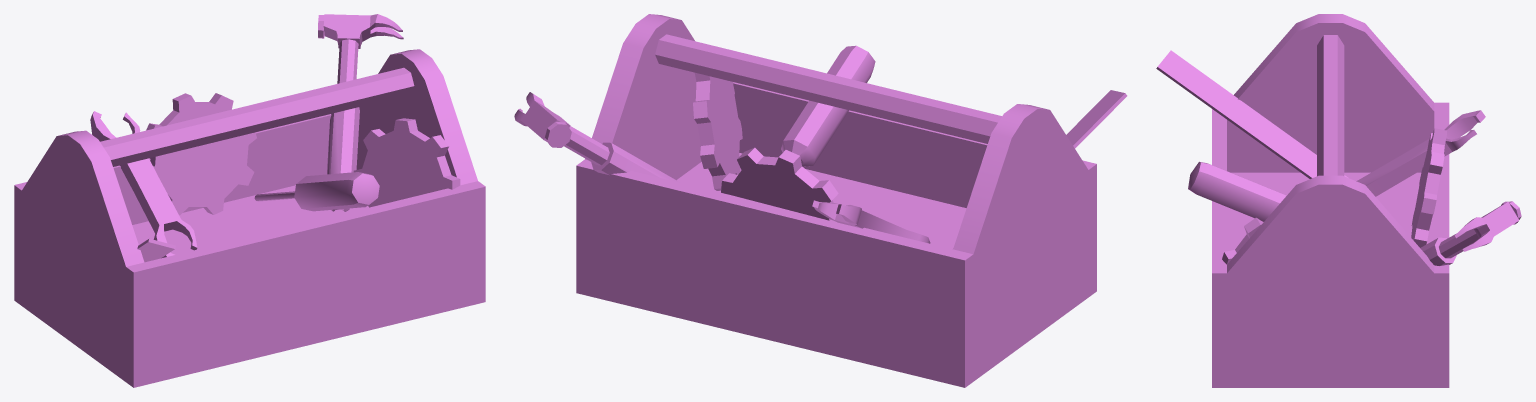
File: SM_RepairKit.fbx
3 views of the same model, side by side, from view 1: azimuth 30°, elevation 25°; view 2: azimuth 150°, elevation 25°; view 3: azimuth 270°, elevation 25° (orthographic). The views are drawn at different scales.
Visible parts, largest first — view 1: SM_UpgradeParts; view 2: SM_UpgradeParts; view 3: SM_UpgradeParts.
Boxes of the visible parts, <box> form: SM_UpgradeParts: <box>14,14,485,387</box>; SM_UpgradeParts: <box>514,14,1127,387</box>; SM_UpgradeParts: <box>1156,14,1521,387</box>.
Bounding box in the file's own units: 0.9386 × 0.4549 × 0.7408.
